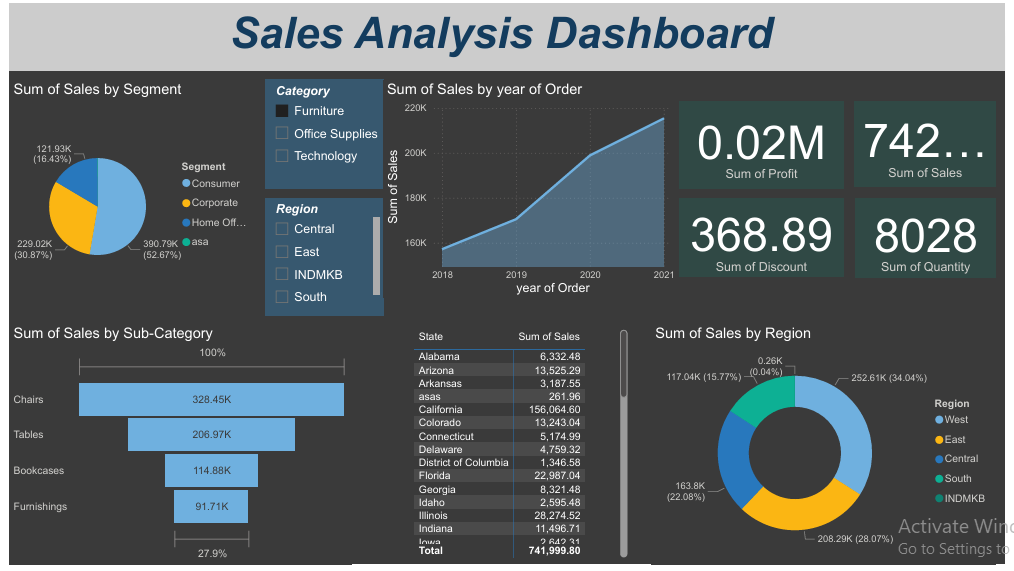

This screenshot's page, from the dashboard's own definition file:
{"tool":"powerbi","page":{"name":"Page 1","canvas":[1280,720],"ordinal":0},"visuals":[{"type":"donutChart","fields":{"Category":["Orders.Region"],"Y":["Orders.Sales"]},"box":[824.8,411.5,443.5,309.1],"z":0},{"type":"funnel","fields":{"Category":["Orders.Sub-Category"],"Y":["Orders.Sales"]},"box":[0,411.5,440.1,309.1],"z":1000},{"type":"pivotTable","fields":{"Values":["Orders.Sales"],"Rows":["Orders.State"]},"box":[515.8,414.4,283.6,301.3],"z":2000},{"type":"pieChart","fields":{"Category":["Orders.Segment"],"Y":["Orders.Sales"]},"box":[0,99.1,319.2,302.4],"z":3000},{"type":"card","fields":{"Values":["Orders.Sales"]},"box":[1086,124.9,182.2,110.2],"z":4000},{"type":"card","fields":{"Values":["Orders.Quantity"]},"box":[1086.7,250,181.7,101.7],"z":5000},{"type":"card","fields":{"Values":["Orders.Discount"]},"box":[859.7,249.8,213.1,101.4],"z":6000},{"type":"card","fields":{"Values":["Orders.Profit"]},"box":[859.7,124.9,213.1,113.2],"z":7000},{"type":"textbox","box":[0,0,1280,87.3],"z":8000},{"type":"slicer","fields":{"Values":["Orders.Category"]},"box":[329.2,98.5,151.4,139.6],"z":9000},{"type":"slicer","fields":{"Values":["Orders.Region"]},"box":[329.2,249.8,151.4,151.4],"z":10000},{"type":"areaChart","fields":{"Y":["Sai kumar sales data xlsx - Orders.Sales"],"Category":["Sai kumar sales data xlsx - Orders.year of Order"]},"box":[480.4,99.1,379.6,278.8],"z":11000}]}

Visuals, with their boxes in screenshot pixels (x1, y1, x2, y2):
donutChart - Orders.Region x Orders.Sales: <bbox>650, 321, 996, 563</bbox>
funnel - Orders.Sub-Category x Orders.Sales: <bbox>5, 321, 349, 563</bbox>
pivotTable - Orders.Sales x Orders.State: <bbox>408, 324, 630, 559</bbox>
pieChart - Orders.Segment x Orders.Sales: <bbox>5, 77, 255, 314</bbox>
card - Orders.Sales: <bbox>854, 98, 996, 184</bbox>
card - Orders.Quantity: <bbox>854, 195, 996, 275</bbox>
card - Orders.Discount: <bbox>677, 195, 843, 274</bbox>
card - Orders.Profit: <bbox>677, 98, 843, 186</bbox>
textbox: <bbox>5, 0, 1005, 68</bbox>
slicer - Orders.Category: <bbox>262, 77, 381, 186</bbox>
slicer - Orders.Region: <bbox>262, 195, 381, 313</bbox>
areaChart - Sai kumar sales data xlsx - Orders.Sales x Sai kumar sales data xlsx - Orders.year of Order: <bbox>381, 77, 677, 295</bbox>
